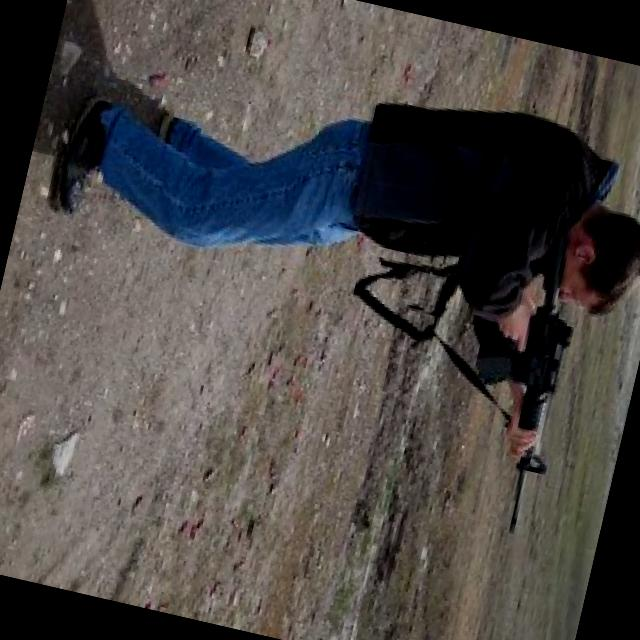long weapon: (440, 208, 614, 565)
